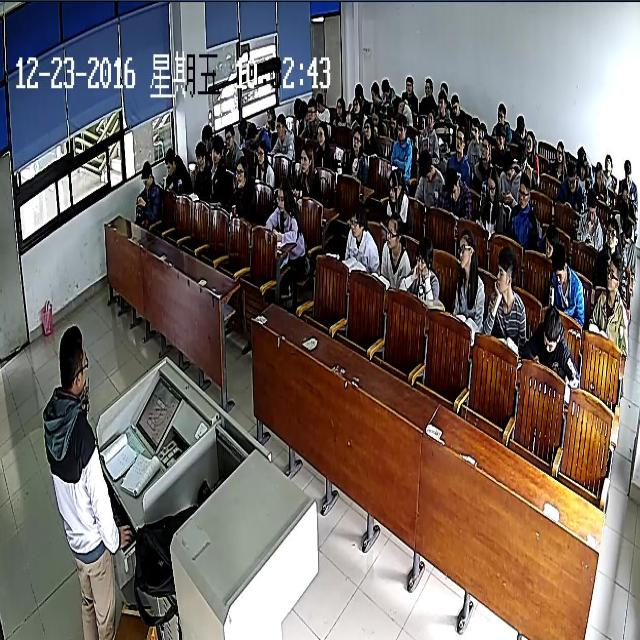person: (58, 323, 88, 398), (495, 242, 517, 295), (542, 304, 560, 352), (458, 226, 475, 272), (348, 199, 367, 237), (416, 233, 432, 276), (606, 250, 622, 292), (551, 244, 567, 285), (386, 209, 402, 250), (444, 166, 461, 203), (417, 148, 436, 180), (387, 167, 403, 202), (275, 176, 290, 212), (140, 157, 154, 192), (544, 222, 556, 258), (163, 146, 176, 178), (519, 173, 530, 210), (235, 157, 248, 187), (299, 144, 313, 171), (210, 133, 222, 164), (502, 147, 513, 180), (565, 160, 577, 190), (486, 165, 496, 200), (255, 140, 268, 165), (201, 123, 212, 152), (607, 219, 618, 248), (306, 95, 317, 122), (586, 188, 594, 225), (494, 121, 504, 150), (594, 159, 604, 188), (517, 142, 526, 174), (351, 124, 362, 150), (470, 115, 480, 143), (481, 132, 491, 160), (194, 142, 205, 167), (316, 122, 327, 147), (275, 112, 286, 136), (224, 123, 234, 149), (396, 114, 406, 140), (248, 120, 258, 145), (450, 92, 460, 117), (237, 115, 247, 139), (556, 139, 566, 163), (622, 218, 630, 248), (370, 78, 379, 104), (498, 101, 508, 124), (515, 114, 525, 137), (391, 95, 403, 113), (336, 95, 346, 116), (456, 125, 464, 151), (298, 97, 307, 120), (314, 90, 323, 113), (437, 90, 446, 113), (619, 201, 628, 224), (526, 129, 534, 154), (624, 159, 632, 184), (354, 81, 363, 103), (380, 76, 390, 95), (363, 119, 372, 140), (424, 75, 433, 96), (292, 94, 300, 116), (579, 157, 587, 179), (405, 75, 414, 94), (439, 80, 448, 99), (352, 95, 360, 115), (388, 110, 396, 130), (426, 110, 434, 130), (372, 104, 379, 126), (604, 152, 611, 174), (621, 183, 628, 205), (265, 105, 273, 123)
